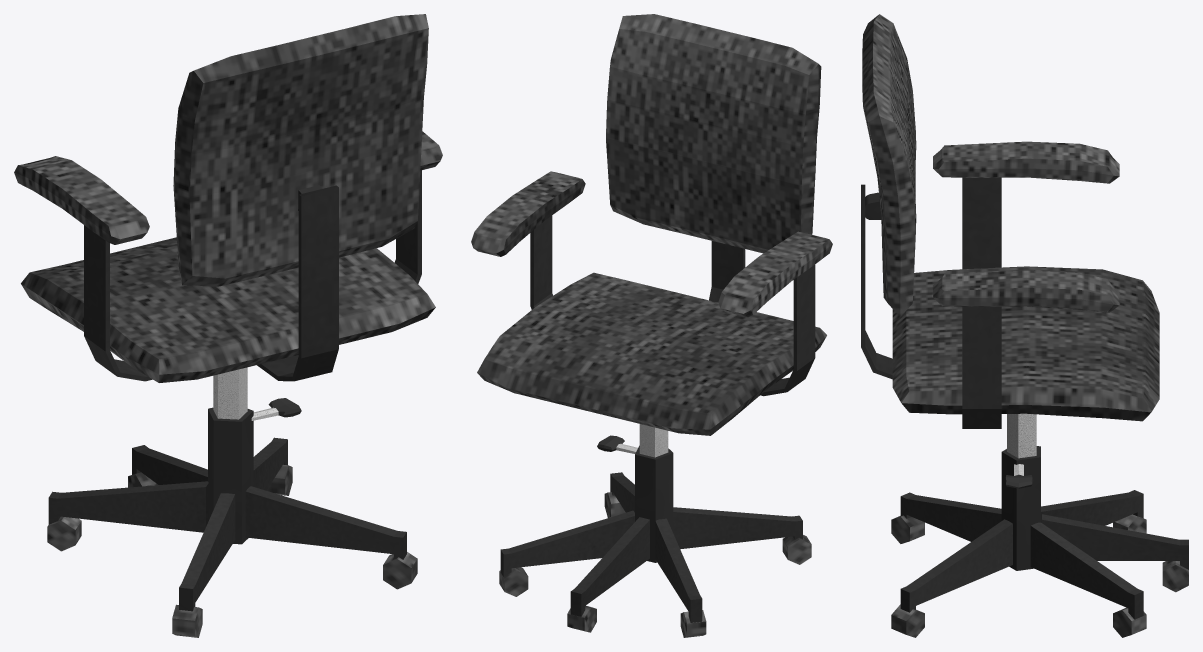
File: PSXOfficeChair.fbx
3 renders of one model, left to right at view 1: azimuth 30°, elevation 25°; view 2: azimuth 150°, elevation 25°; view 3: azimuth 270°, elevation 25°, orthographic. The views are drawn at different scales.
Visible parts, largest first — view 1: PSX_OfficeChair; view 2: PSX_OfficeChair; view 3: PSX_OfficeChair.
Part boxes in pixels (x1=…): PSX_OfficeChair: x1=14, y1=14, x2=442, y2=637; PSX_OfficeChair: x1=471, y1=14, x2=832, y2=637; PSX_OfficeChair: x1=861, y1=14, x2=1188, y2=637.
Bounding box in the file's own units: 61.71 × 104 × 58.21.
1 material, 1 textured.
